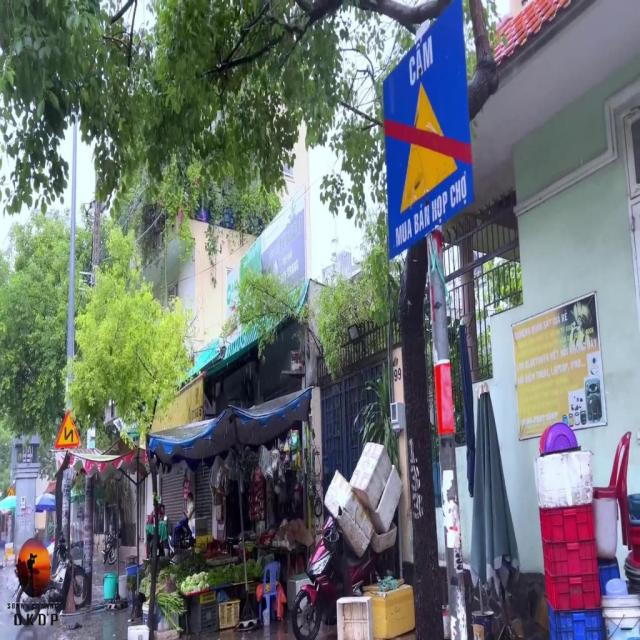cho_ngoat_nguy_hiem_lien_tiep: (55, 410, 81, 448)
